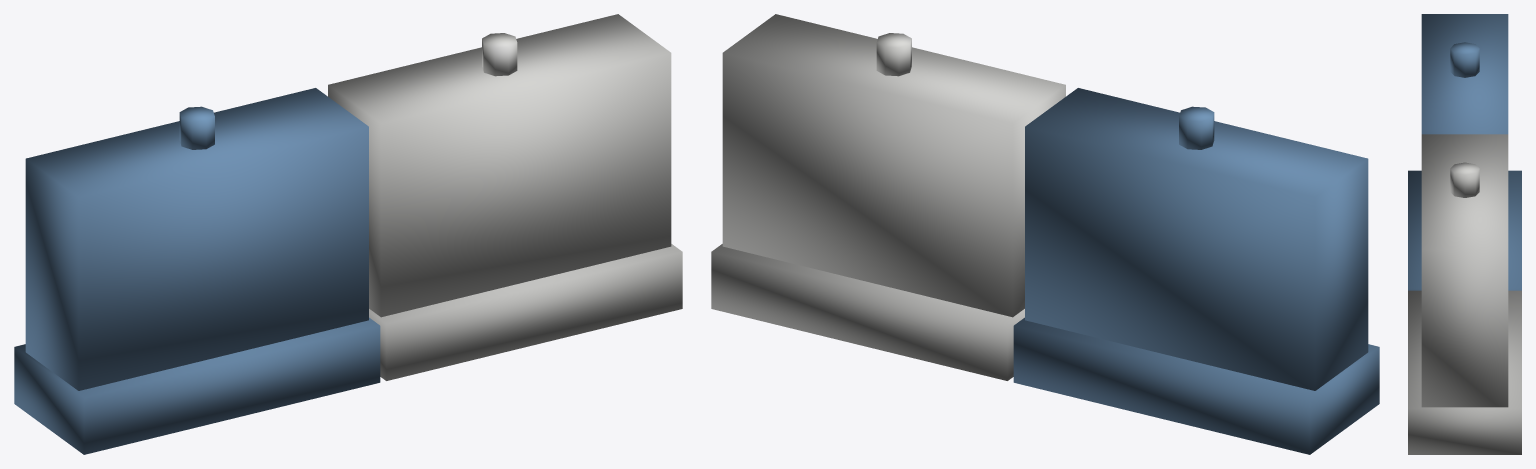
Rendered from barrier_plastic_navy_white_01.glb.
3 renders of one model, left to right at view 1: azimuth 30°, elevation 25°; view 2: azimuth 150°, elevation 25°; view 3: azimuth 270°, elevation 25°, orthographic. The views are drawn at different scales.
Parts seen in each view (by area): view 1: barrier_plastic_navy_white_01_visual; view 2: barrier_plastic_navy_white_01_visual; view 3: barrier_plastic_navy_white_01_visual.
Part boxes in pixels (x1,y1,x2,y2): barrier_plastic_navy_white_01_visual: (14,14,682,454); barrier_plastic_navy_white_01_visual: (711,14,1379,454); barrier_plastic_navy_white_01_visual: (1408,14,1521,454).
Bounding box in the file's own units: 1.98 × 0.882 × 0.4.
